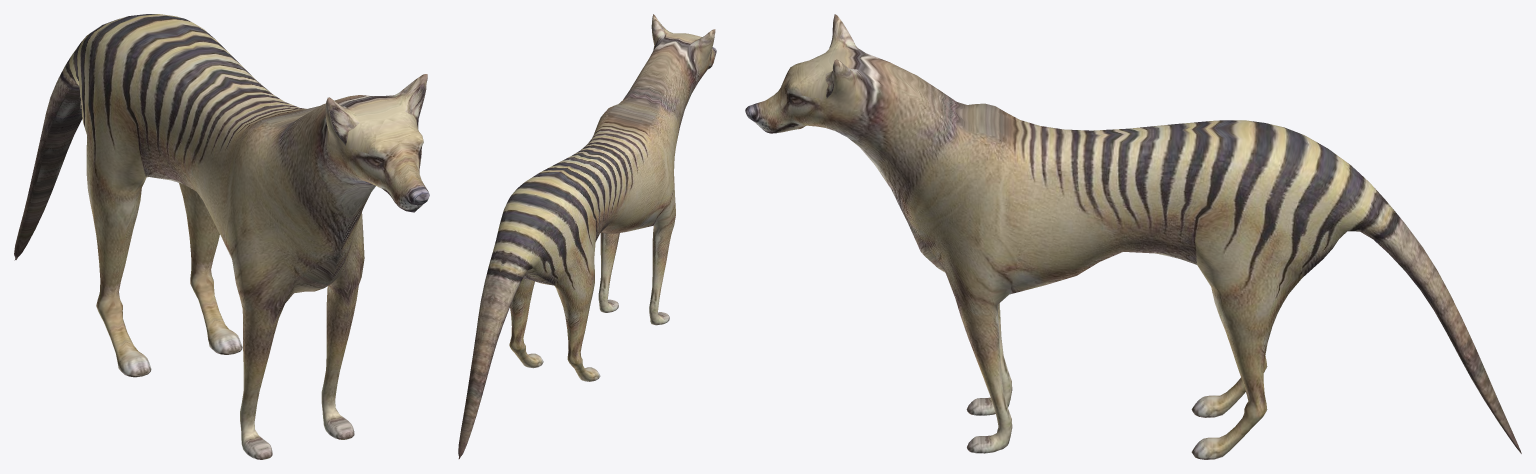
The model's file is thylacine_sketchfab.glb.
3 renders of one model, left to right at view 1: azimuth 30°, elevation 25°; view 2: azimuth 150°, elevation 25°; view 3: azimuth 270°, elevation 25°, orthographic. The views are drawn at different scales.
Parts seen in each view (by area): view 1: Object_4; view 2: Object_4; view 3: Object_4.
Part boxes in pixels (x1,y1,x2,y2): Object_4: (14, 14, 429, 459); Object_4: (458, 14, 716, 458); Object_4: (745, 14, 1521, 459).
Size of the model in its own units: 4.61 by 14.4 by 24.28.
1 material, 1 textured.
